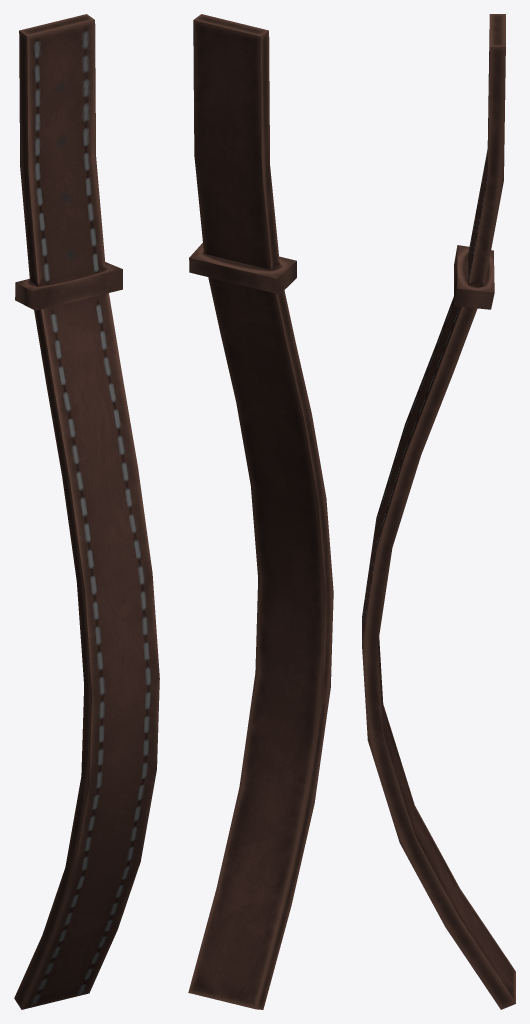
The model's file is BagStrapB.fbx.
3 renders of one model, left to right at view 1: azimuth 30°, elevation 25°; view 2: azimuth 150°, elevation 25°; view 3: azimuth 270°, elevation 25°, orthographic.
Visible parts, largest first — view 1: BagStrapB_LOD0; view 2: BagStrapB_LOD0; view 3: BagStrapB_LOD0.
Boxes of the visible parts, box(x1,y1,x2,y2) form: BagStrapB_LOD0: box(14, 14, 159, 1009); BagStrapB_LOD0: box(188, 14, 333, 1009); BagStrapB_LOD0: box(362, 14, 515, 1009).
Size of what is drawn, in the model's own units: 18.79 by 193 by 27.92.
